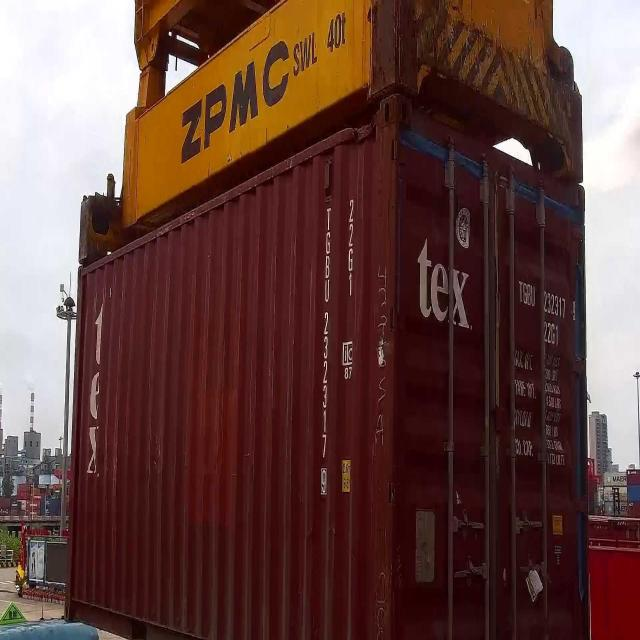dent: (271, 504, 359, 603)
